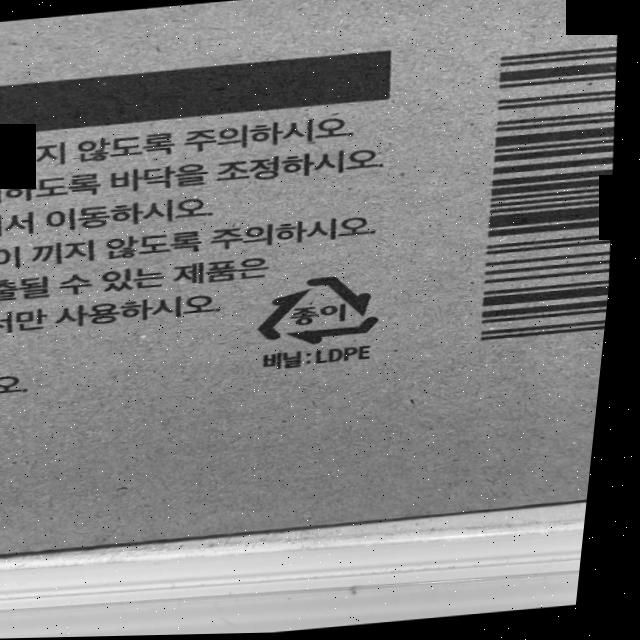Paper: (252, 269, 398, 352)
